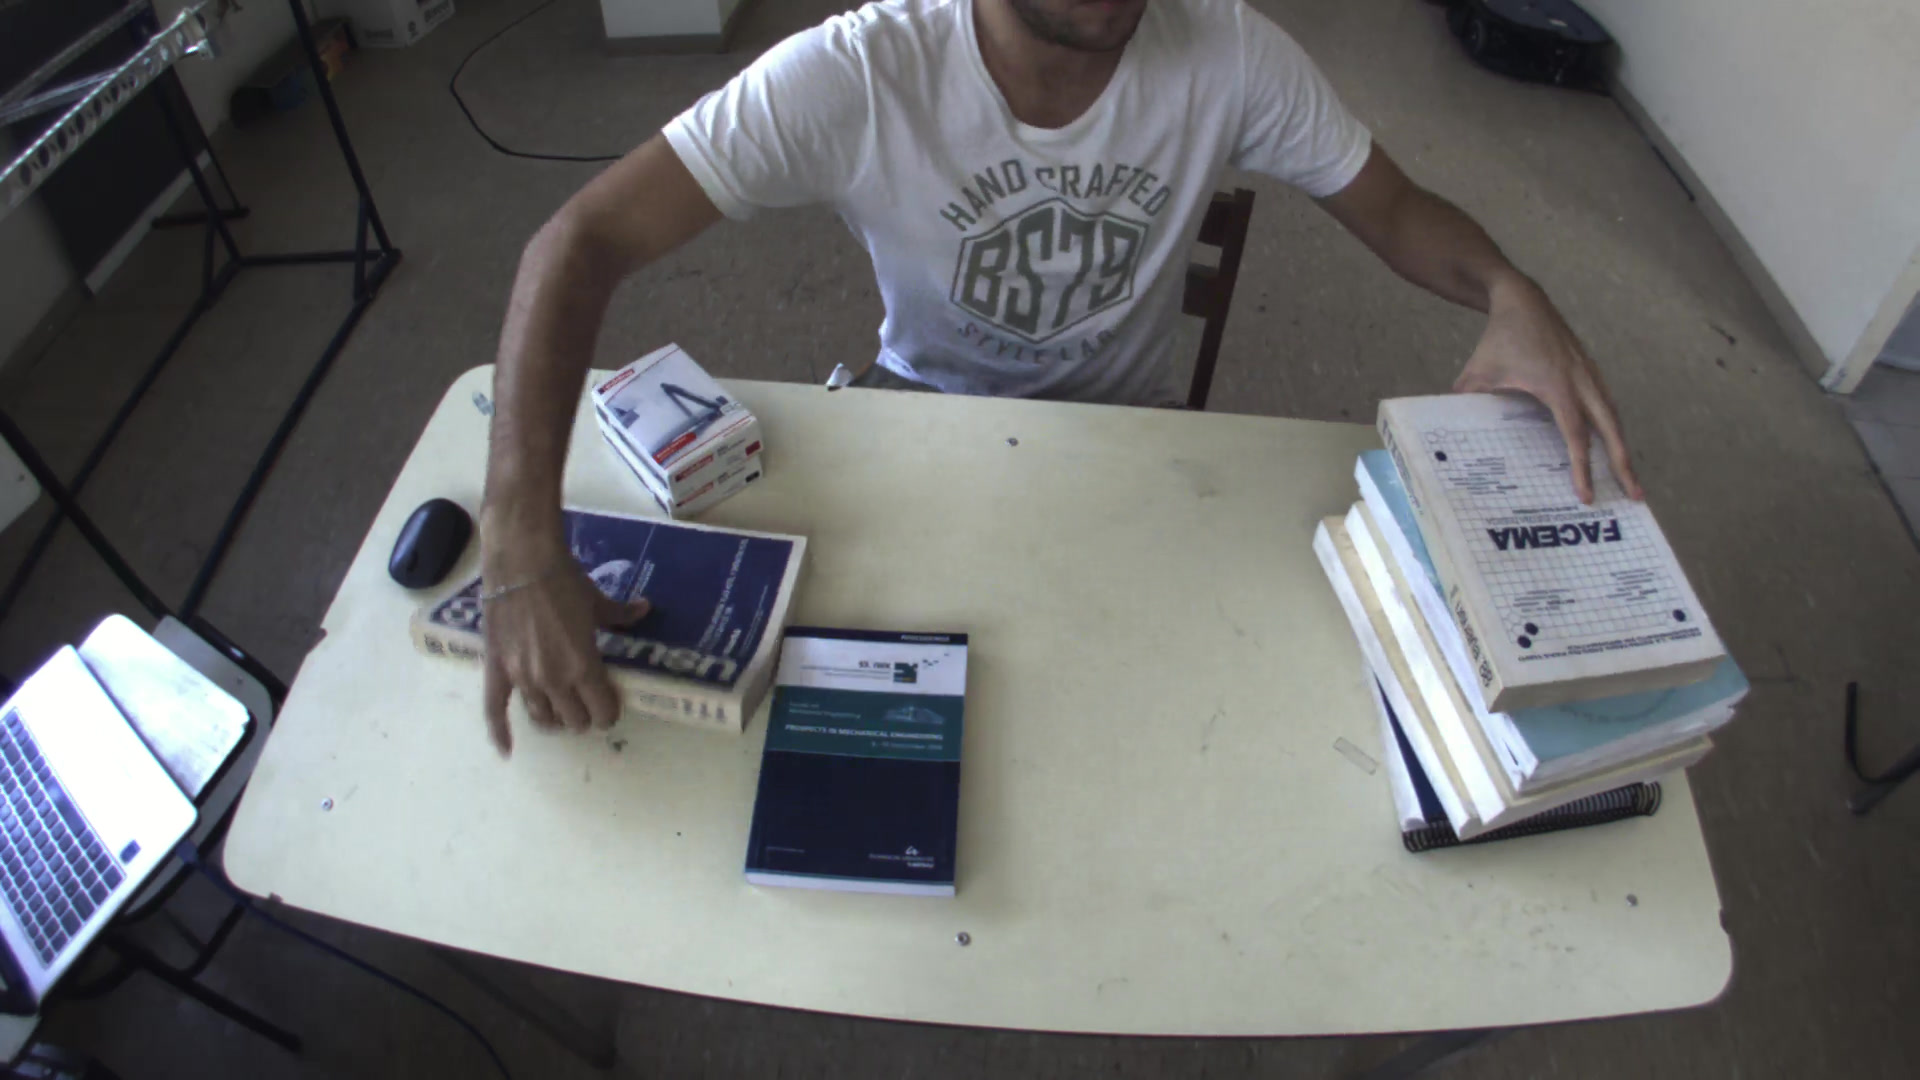hand: (460, 524, 655, 746), (1455, 305, 1662, 508)
